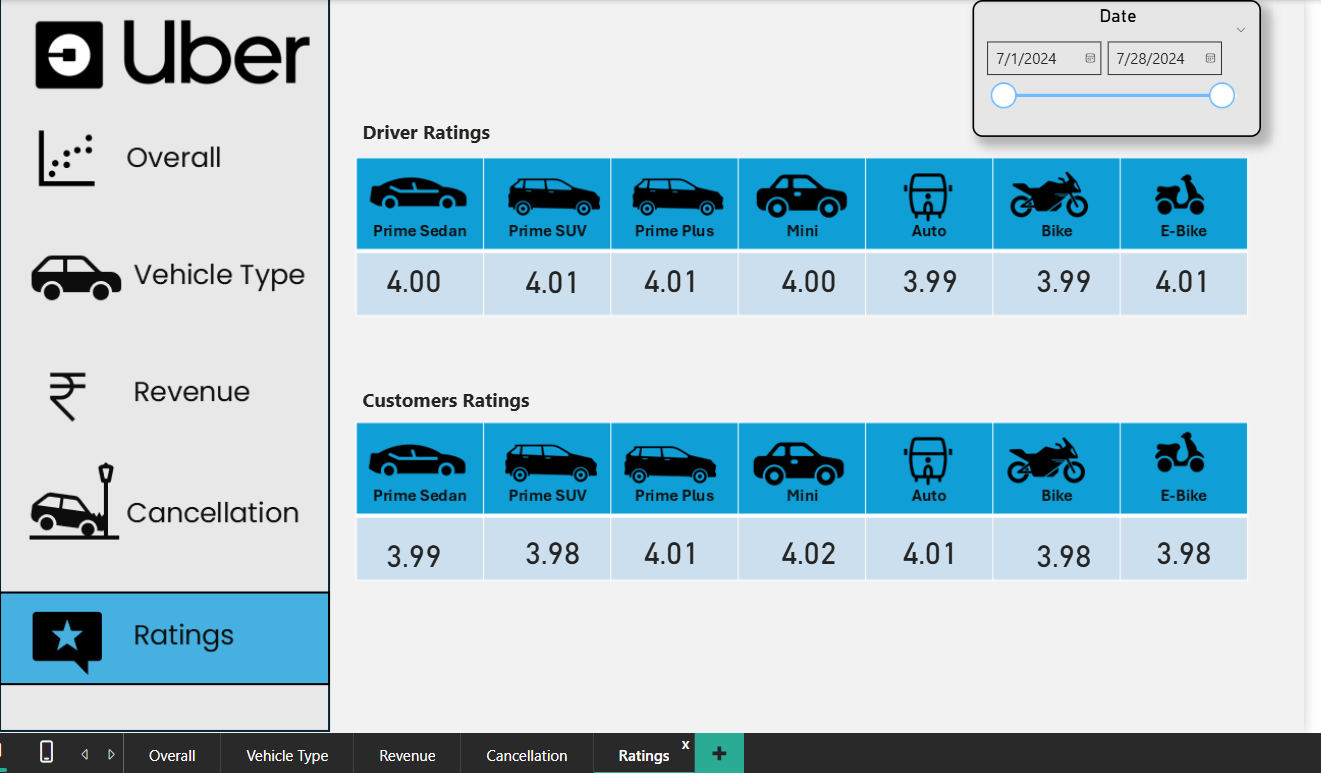

Layout of this report page (visuals, bound fields, positions):
{"tool":"powerbi","page":{"name":"Ratings","canvas":[1280,720],"ordinal":4},"visuals":[{"type":"actionButton","box":[0,343.8,323.8,92.5],"z":0},{"type":"actionButton","box":[1.2,450,323.8,92.5],"z":1000},{"type":"actionButton","box":[0,227.5,323.8,92.5],"z":2000},{"type":"actionButton","box":[0,111.2,323.8,92.5],"z":3000},{"type":"card","fields":{"Values":["Avg(Bookings (2).Driver_Ratings)"]},"box":[365.7,240,81.4,67.1],"z":4000},{"type":"card","fields":{"Values":["Avg(Bookings (2).Driver_Ratings)"]},"box":[501.4,241.4,81.4,67.1],"z":5000},{"type":"card","fields":{"Values":["Avg(Bookings (2).Driver_Ratings)"]},"box":[618.6,240,81.4,67.1],"z":6000},{"type":"card","fields":{"Values":["Avg(Bookings (2).Driver_Ratings)"]},"box":[752.9,240,81.4,67.1],"z":7000},{"type":"card","fields":{"Values":["Avg(Bookings (2).Driver_Ratings)"]},"box":[872.9,240,81.4,67.1],"z":8000},{"type":"card","fields":{"Values":["Avg(Bookings (2).Driver_Ratings)"]},"box":[1004.3,240,81.4,67.1],"z":9000},{"type":"card","fields":{"Values":["Avg(Bookings (2).Driver_Ratings)"]},"box":[1120,240,81.4,67.1],"z":10000},{"type":"card","fields":{"Values":["Avg(Bookings (2).Customer_Rating)"]},"box":[365.7,510,81.4,67.1],"z":11000},{"type":"textbox","box":[351.4,111.4,160,45.7],"z":12000},{"type":"textbox","box":[351.4,374.3,191.4,38.6],"z":13000},{"type":"card","fields":{"Values":["Avg(Bookings (2).Customer_Rating)"]},"box":[501.4,508.6,81.4,67.1],"z":14000},{"type":"card","fields":{"Values":["Avg(Bookings (2).Customer_Rating)"]},"box":[618.6,508.6,81.4,67.1],"z":15000},{"type":"card","fields":{"Values":["Avg(Bookings (2).Customer_Rating)"]},"box":[752.9,508.6,81.4,67.1],"z":16000},{"type":"card","fields":{"Values":["Avg(Bookings (2).Customer_Rating)"]},"box":[872.9,508.6,81.4,67.1],"z":17000},{"type":"card","fields":{"Values":["Avg(Bookings (2).Customer_Rating)"]},"box":[1004.3,510,81.4,67.1],"z":18000},{"type":"card","fields":{"Values":["Avg(Bookings (2).Customer_Rating)"]},"box":[1121.4,508.6,81.4,67.1],"z":19000},{"type":"slicer","title":"Date","fields":{"Values":["Bookings (2).Date"]},"box":[954.3,0,282.9,134.3],"z":20000}]}

Visuals, with their boxes on the page's 1280x720 design canvas (x1, y1, x2, y2). These are canvas units, not pixel positions in the 1321x773 screenshot, which may show the page scaled, cropped or inside an application window:
actionButton: [x1=0, y1=344, x2=324, y2=436]
actionButton: [x1=1, y1=450, x2=325, y2=542]
actionButton: [x1=0, y1=228, x2=324, y2=320]
actionButton: [x1=0, y1=111, x2=324, y2=204]
card - Avg(Bookings (2).Driver_Ratings): [x1=366, y1=240, x2=447, y2=307]
card - Avg(Bookings (2).Driver_Ratings): [x1=501, y1=241, x2=583, y2=308]
card - Avg(Bookings (2).Driver_Ratings): [x1=619, y1=240, x2=700, y2=307]
card - Avg(Bookings (2).Driver_Ratings): [x1=753, y1=240, x2=834, y2=307]
card - Avg(Bookings (2).Driver_Ratings): [x1=873, y1=240, x2=954, y2=307]
card - Avg(Bookings (2).Driver_Ratings): [x1=1004, y1=240, x2=1086, y2=307]
card - Avg(Bookings (2).Driver_Ratings): [x1=1120, y1=240, x2=1201, y2=307]
card - Avg(Bookings (2).Customer_Rating): [x1=366, y1=510, x2=447, y2=577]
textbox: [x1=351, y1=111, x2=511, y2=157]
textbox: [x1=351, y1=374, x2=543, y2=413]
card - Avg(Bookings (2).Customer_Rating): [x1=501, y1=509, x2=583, y2=576]
card - Avg(Bookings (2).Customer_Rating): [x1=619, y1=509, x2=700, y2=576]
card - Avg(Bookings (2).Customer_Rating): [x1=753, y1=509, x2=834, y2=576]
card - Avg(Bookings (2).Customer_Rating): [x1=873, y1=509, x2=954, y2=576]
card - Avg(Bookings (2).Customer_Rating): [x1=1004, y1=510, x2=1086, y2=577]
card - Avg(Bookings (2).Customer_Rating): [x1=1121, y1=509, x2=1203, y2=576]
"Date" slicer: [x1=954, y1=0, x2=1237, y2=134]
